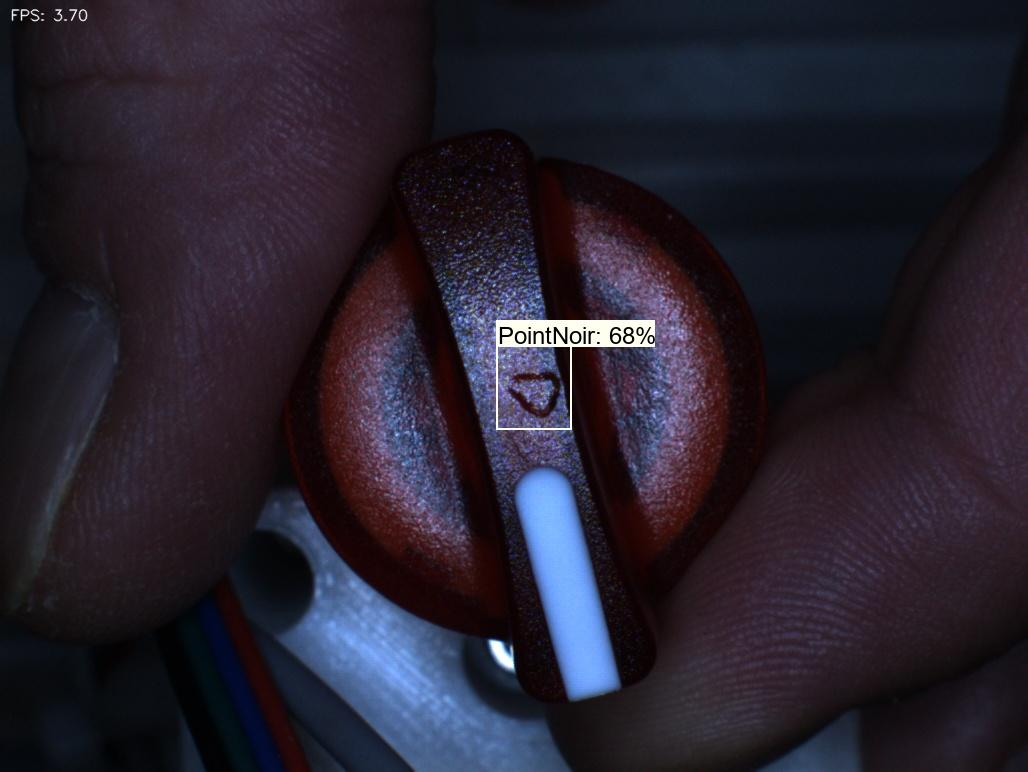Choc: (491, 356, 578, 433)
